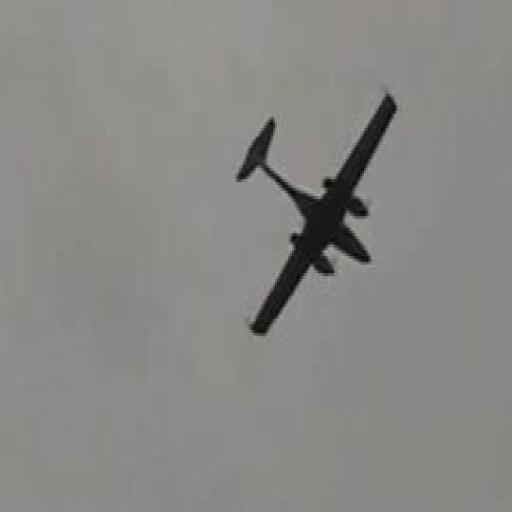aircraft: (236, 90, 401, 338)
